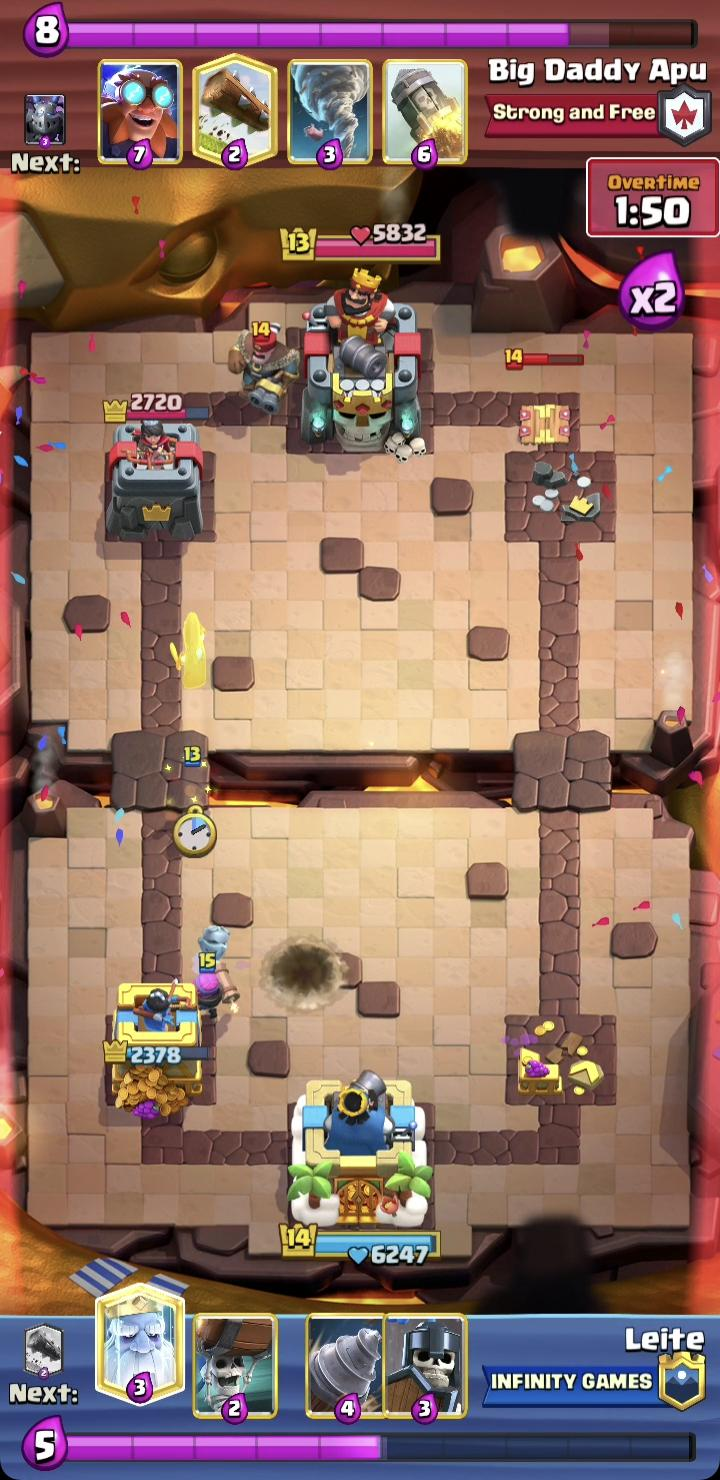EHunter: (228, 321, 299, 413)
EKingTower: (300, 270, 429, 460)
EnemyPrincessTower: (105, 419, 202, 541)
OFirecrack: (194, 943, 239, 1018)
OwnKingTower: (288, 1071, 432, 1227)
OwnPrincessTower: (103, 979, 211, 1116)
TowerDown: (506, 448, 614, 541), (506, 1014, 616, 1105)
